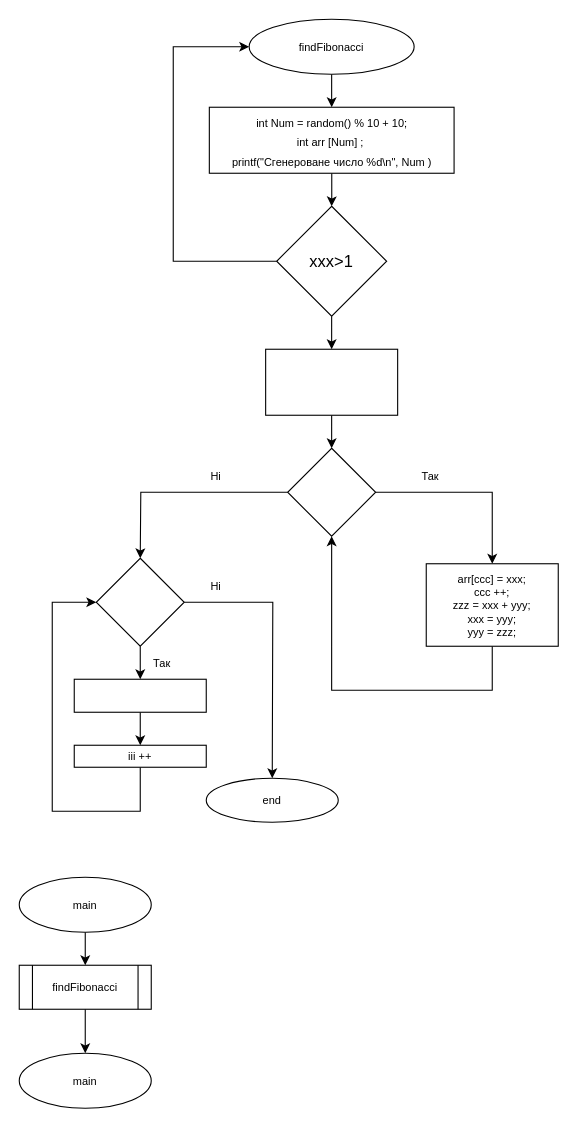
Image size: 578x1128. Some labels were removed from this diagram. The shapes that lost their labels are listed below. From the top down, each one's centre as x and y in pixels, then its label:
point (331, 381): int xxx, yyy, zzz, ccc, iii; xxx = 0; yyy = 1; ccc = 0;
point (331, 491): XXX<1000
point (139, 601): iii<Num,iii==0
point (139, 695): printf(" %d", arr[iii]);
